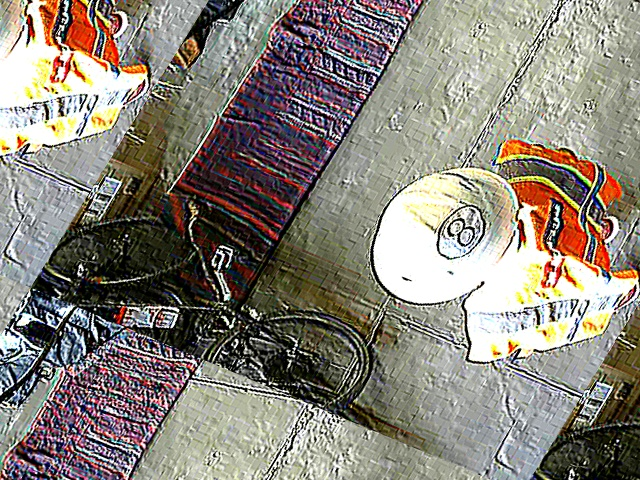eight: (424, 198, 494, 265)
